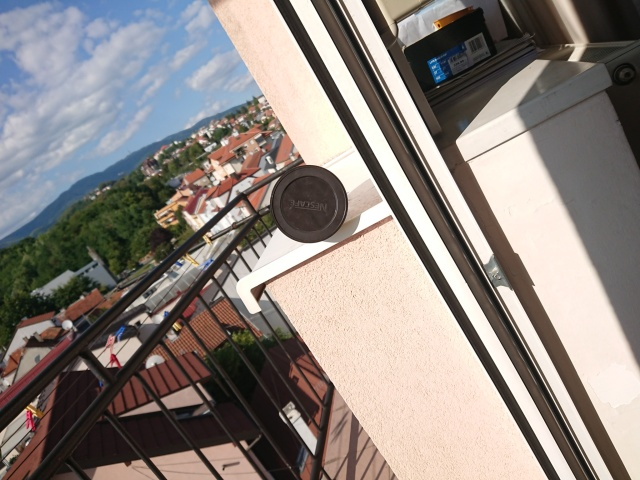Nescafe Classic 225g: (265, 160, 354, 249)
